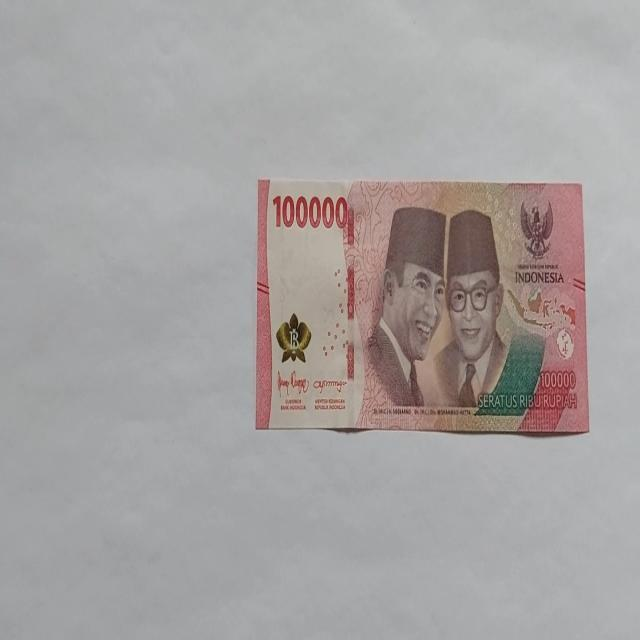seratus ribu rupiah: (255, 176, 589, 435)
